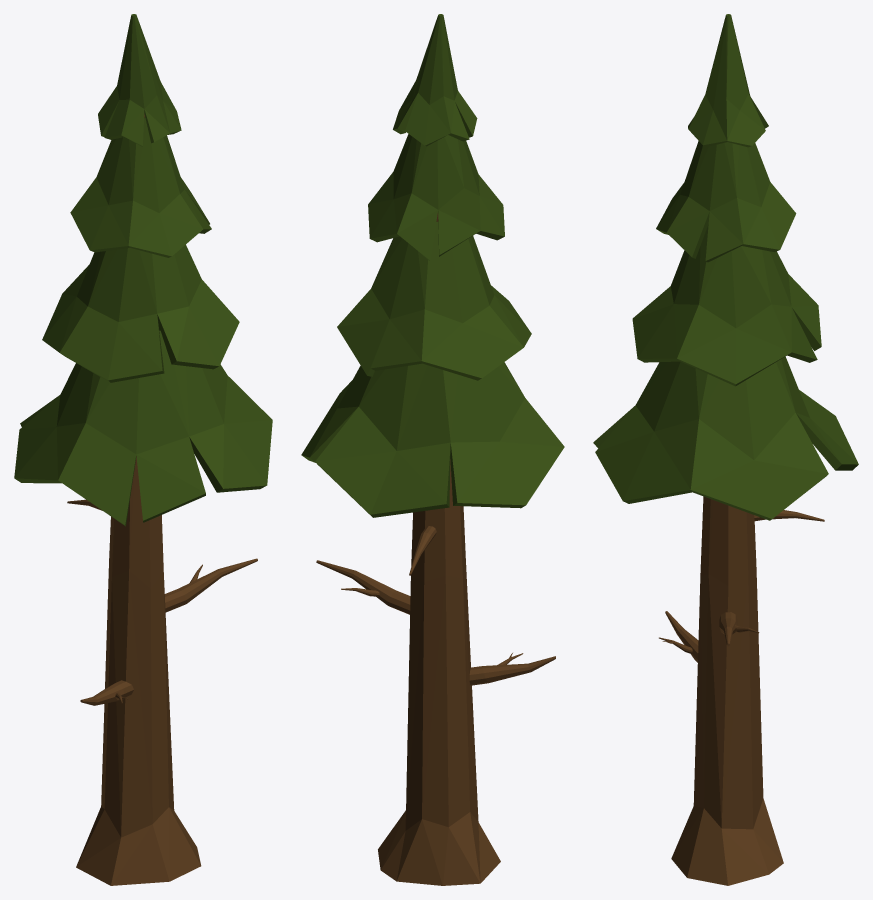
The model's file is Tree_Pine_B.fbx.
The picture shows the model from 3 angles, left to right: view 1: azimuth 30°, elevation 25°; view 2: azimuth 150°, elevation 25°; view 3: azimuth 270°, elevation 25°; orthographic projection.
Parts seen in each view (by area): view 1: Cylinder; view 2: Cylinder; view 3: Cylinder.
Boxes of the visible parts, x1,y1,x2,y2 form: Cylinder: (14,14,272,885); Cylinder: (301,14,564,885); Cylinder: (593,14,858,885).
Size of the model in its own units: 433 by 1554 by 446.
